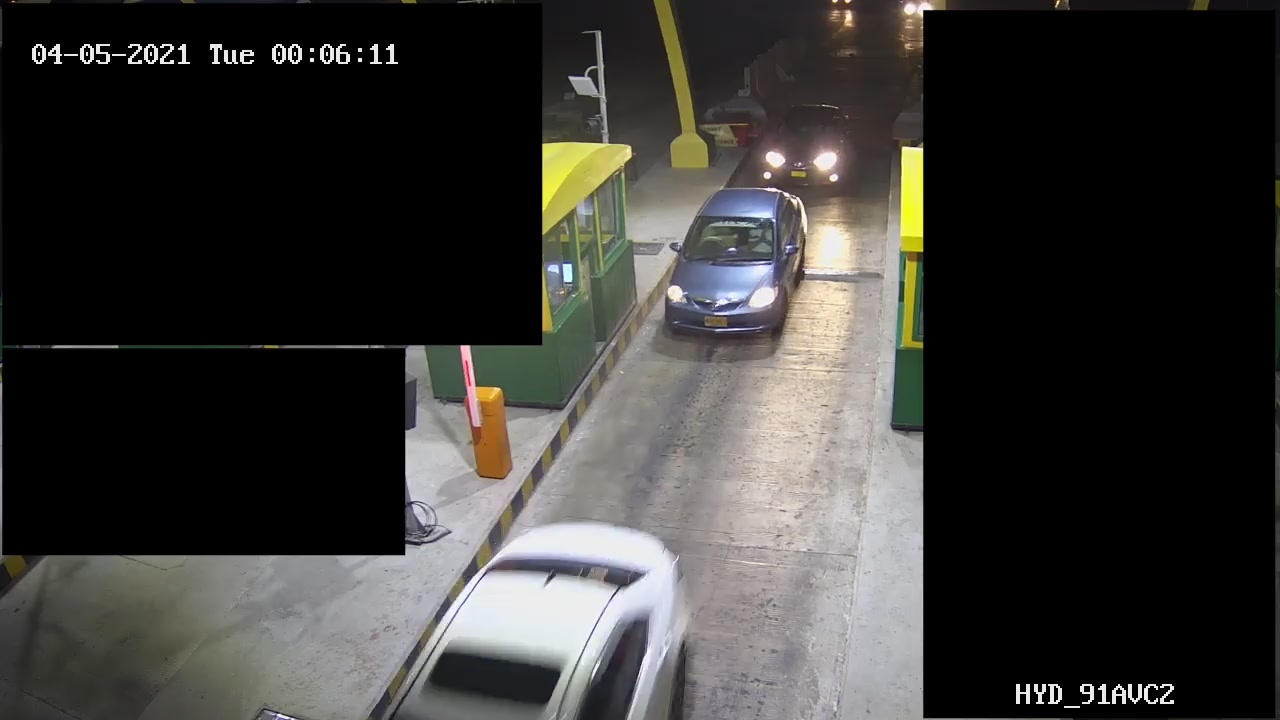F1: (655, 187, 825, 352)
